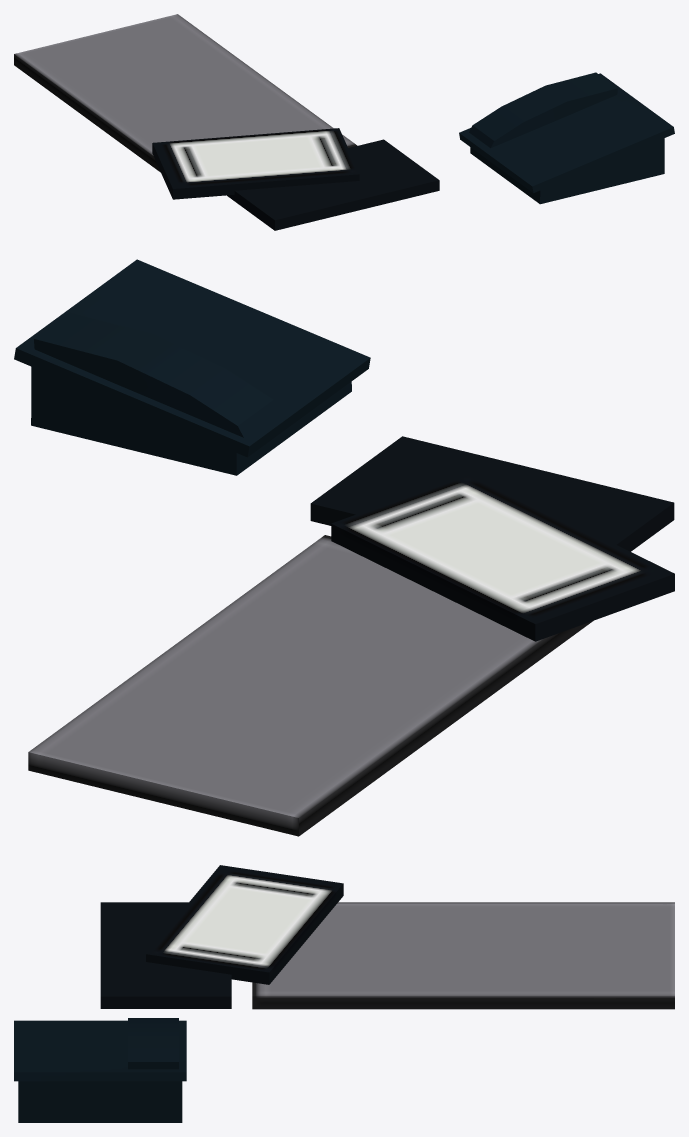
The model's file is Tx_prop_desktop_1_props_13.fbx.
3 views of the same model, one above another, from view 1: azimuth 30°, elevation 25°; view 2: azimuth 150°, elevation 25°; view 3: azimuth 270°, elevation 25° (orthographic). The views are drawn at different scales.
Visible parts, largest first — view 1: Tx_prop_desktop_1_props1; view 2: Tx_prop_desktop_1_props1; view 3: Tx_prop_desktop_1_props1.
Boxes of the visible parts, left/top/right/bottom form: Tx_prop_desktop_1_props1: left=14, top=14, right=674, bottom=230; Tx_prop_desktop_1_props1: left=14, top=259, right=674, bottom=836; Tx_prop_desktop_1_props1: left=14, top=865, right=674, bottom=1122.
Size of the model in its own units: 5.02 by 0.6538 by 5.89.
